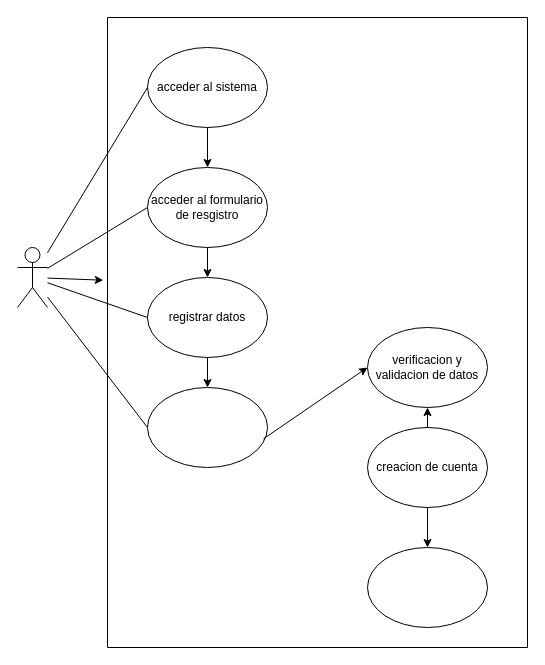
This 545x665 diagram has some shape labels left out. The shapes that lost their labels are listed below. From the top down, each one's box as (x1, y1, x2, y2) in pixels, then its label:
(16, 246, 48, 308): Actor
(146, 386, 268, 468): completar formulario
(366, 546, 488, 628): asignar roles y permisos de usuario
